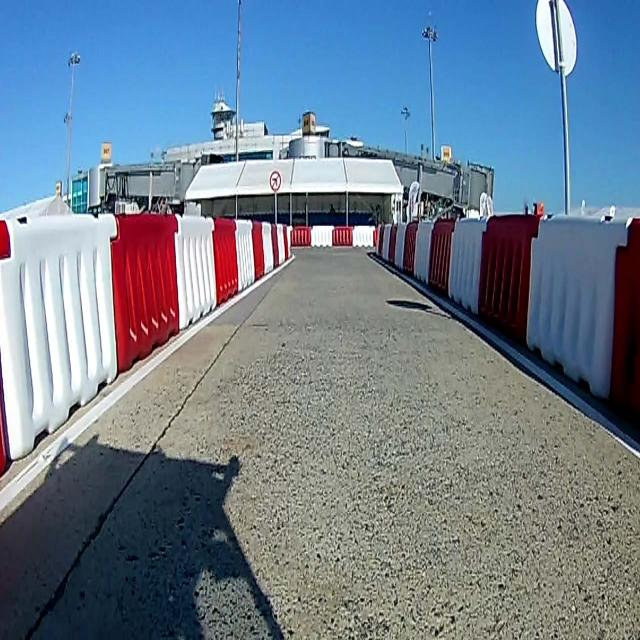soladonulmez: (268, 166, 282, 197)
